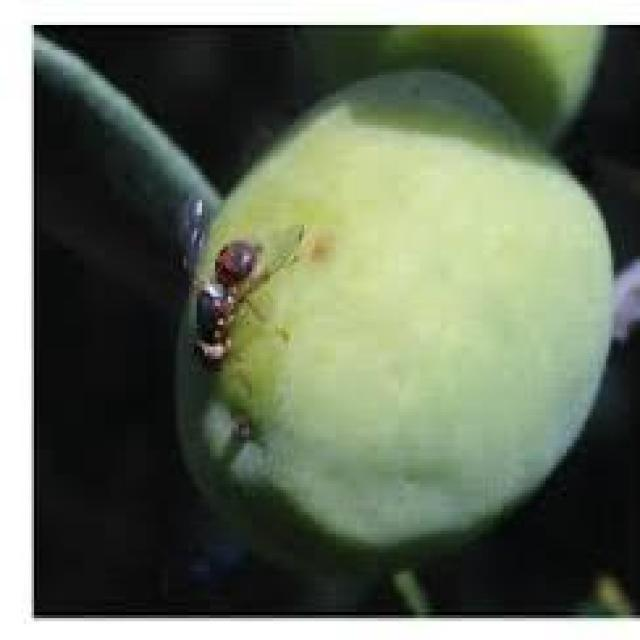Anthracnose: (181, 72, 611, 562)
